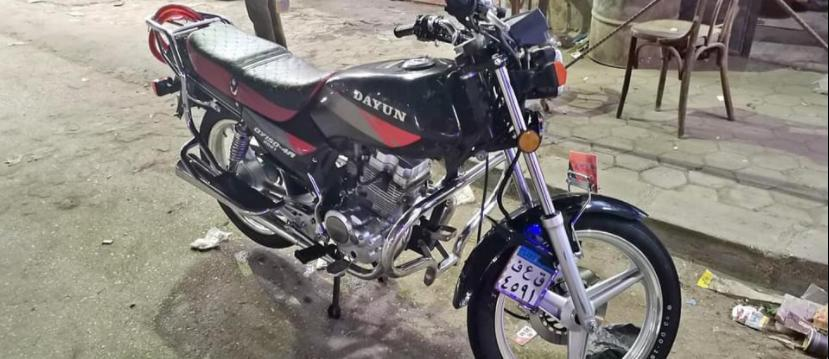License Plate: (494, 240, 561, 310)
